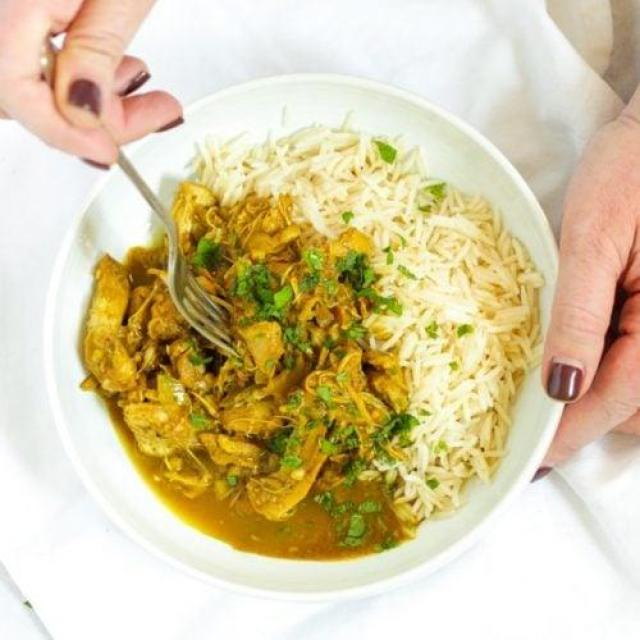chicken: (60, 184, 373, 550)
rice: (328, 133, 542, 508)
